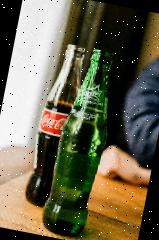glass: (20, 41, 120, 238)
